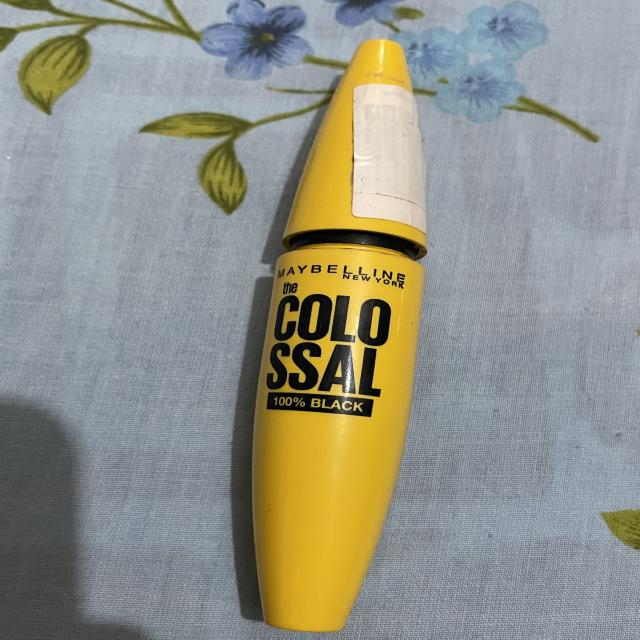mascara: (193, 18, 458, 640)
